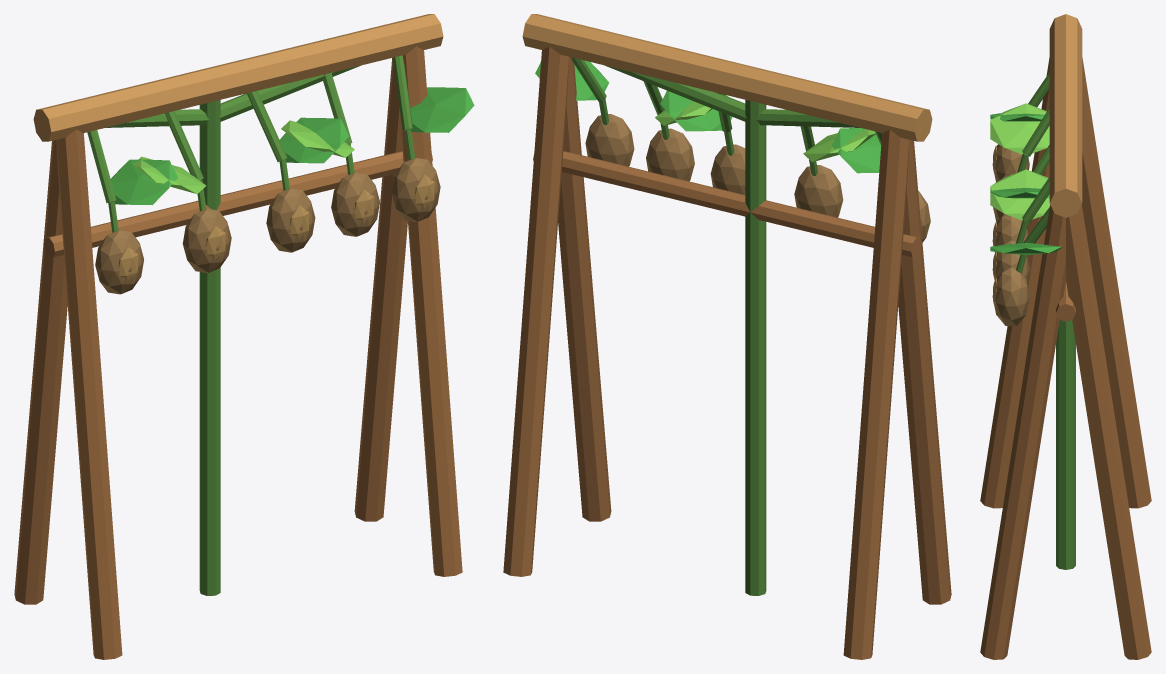
The model's file is Kiwi.glb.
3 renders of one model, left to right at view 1: azimuth 30°, elevation 25°; view 2: azimuth 150°, elevation 25°; view 3: azimuth 270°, elevation 25°, orthographic. The views are drawn at different scales.
Visible parts, largest first — view 1: FTF_Plant_Kiwi_Trellis_Mature_Mesh; view 2: FTF_Plant_Kiwi_Trellis_Mature_Mesh; view 3: FTF_Plant_Kiwi_Trellis_Mature_Mesh.
Boxes of the visible parts, <box> form: FTF_Plant_Kiwi_Trellis_Mature_Mesh: <box>14,14,474,659</box>; FTF_Plant_Kiwi_Trellis_Mature_Mesh: <box>503,14,951,659</box>; FTF_Plant_Kiwi_Trellis_Mature_Mesh: <box>980,14,1151,659</box>.
Size of the model in its own units: 1.7 by 2.12 by 0.6889.
